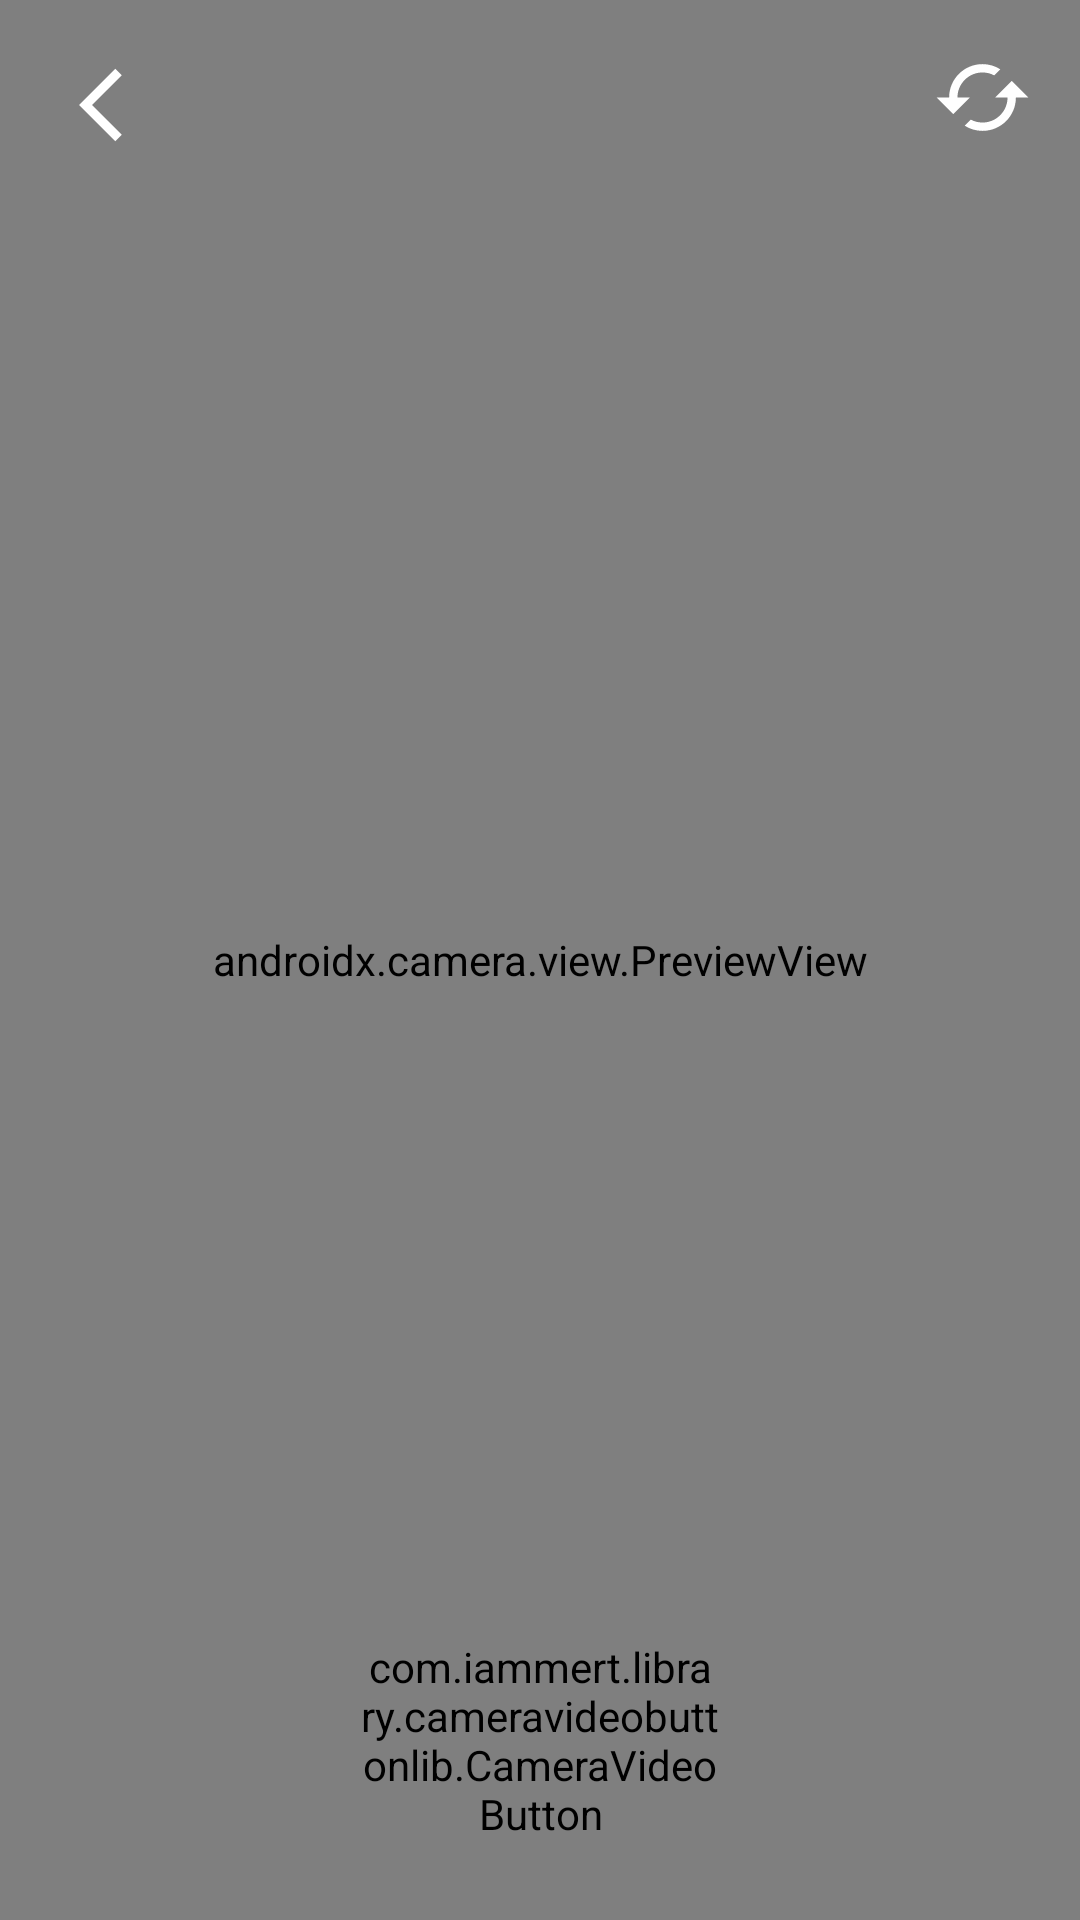

Icon click points for this 1080w x 1920h phone screenshot, format (x,y):
arrow back: (100,105)
rotate: (982,97)
